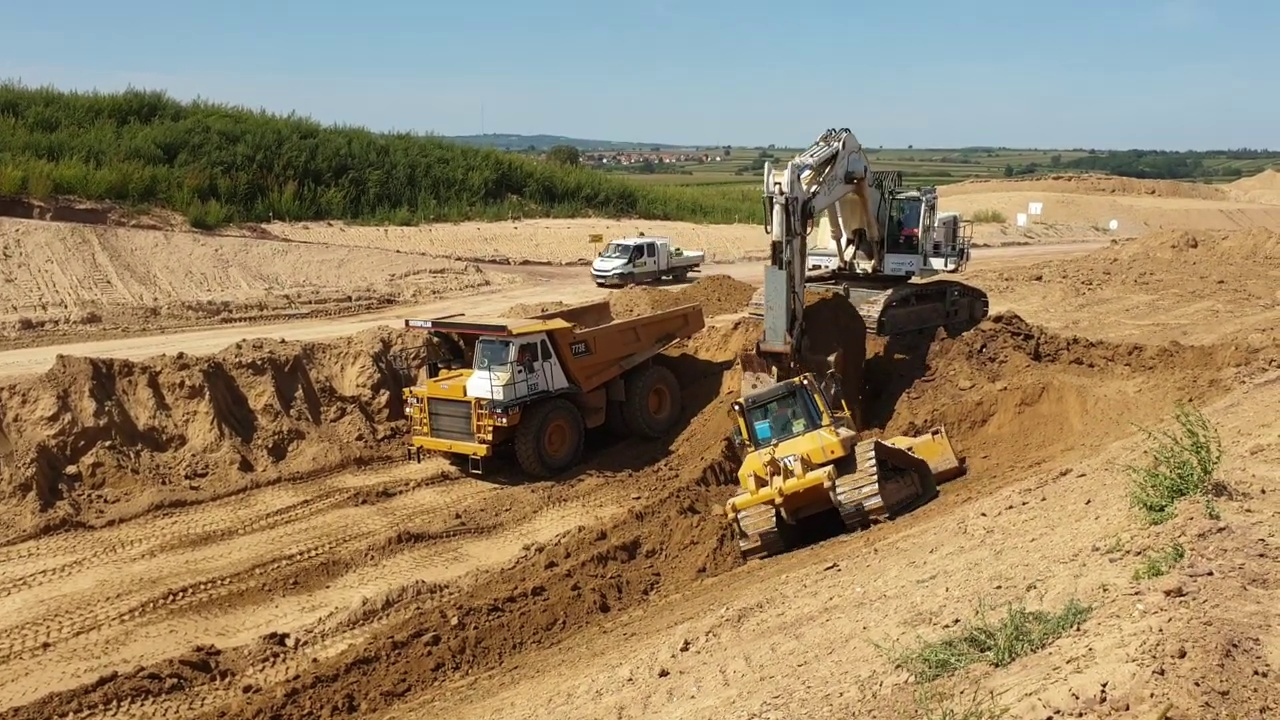bulldozer: (719, 372, 968, 559)
excavator: (736, 121, 995, 437)
truck: (404, 299, 708, 486), (585, 237, 708, 290)
